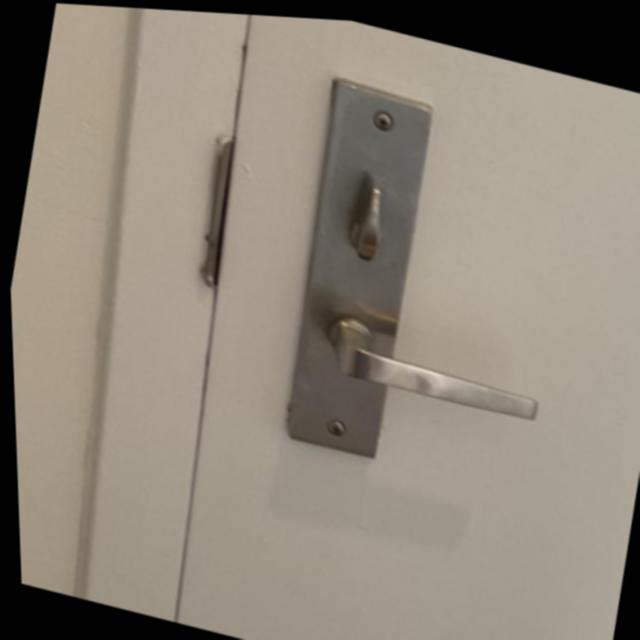door_handle: (291, 287, 561, 448)
